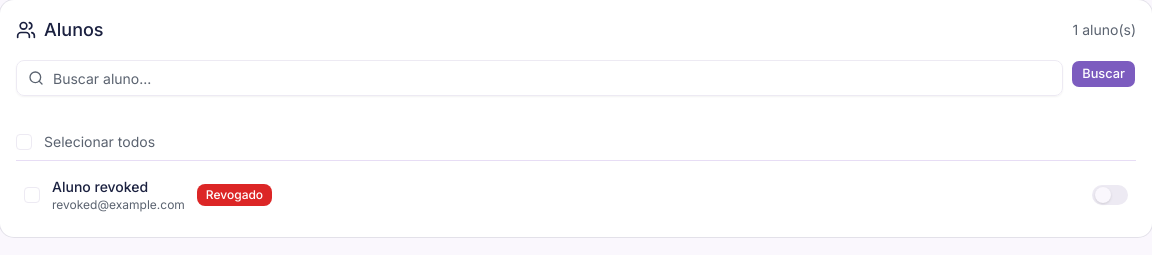
Test case: StudentToggleList › reativa REVOKED pelo POST e continua usando o mesmo vínculo
Step 1. Click the switch with test id "student-toggle-revoked" → click(1110, 195), box 1092,185 -> 1128,205
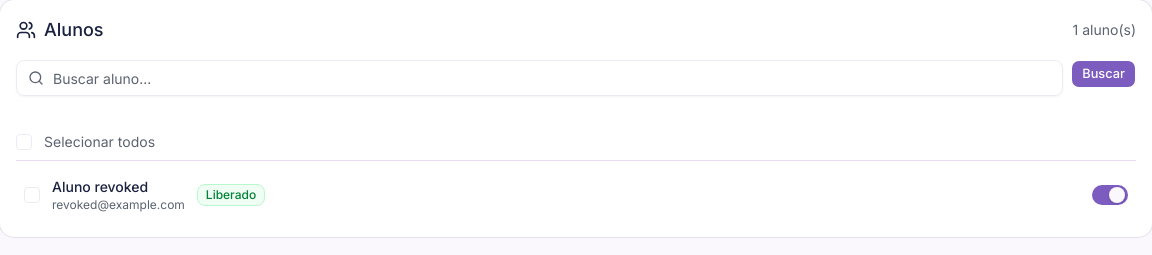
Check: the text with test id "student-status-revoked" reads "Liberado", box 206,187 -> 256,202
Step 2. Click the switch with test id "student-toggle-revoked" → click(1110, 195), box 1092,185 -> 1128,205
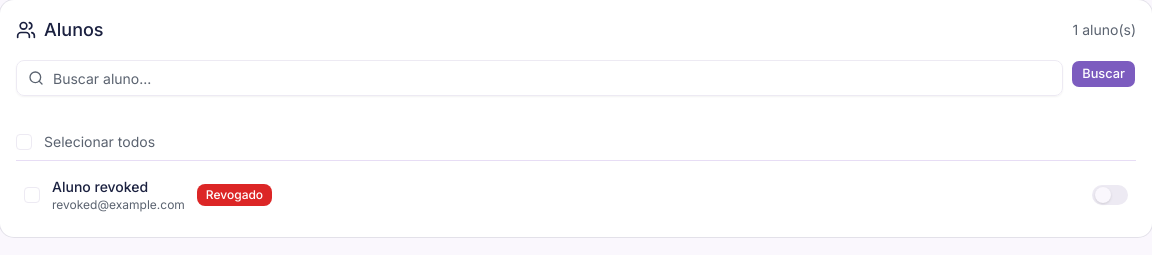
Check: the text with test id "student-status-revoked" reads "Revogado", box 206,187 -> 263,202
